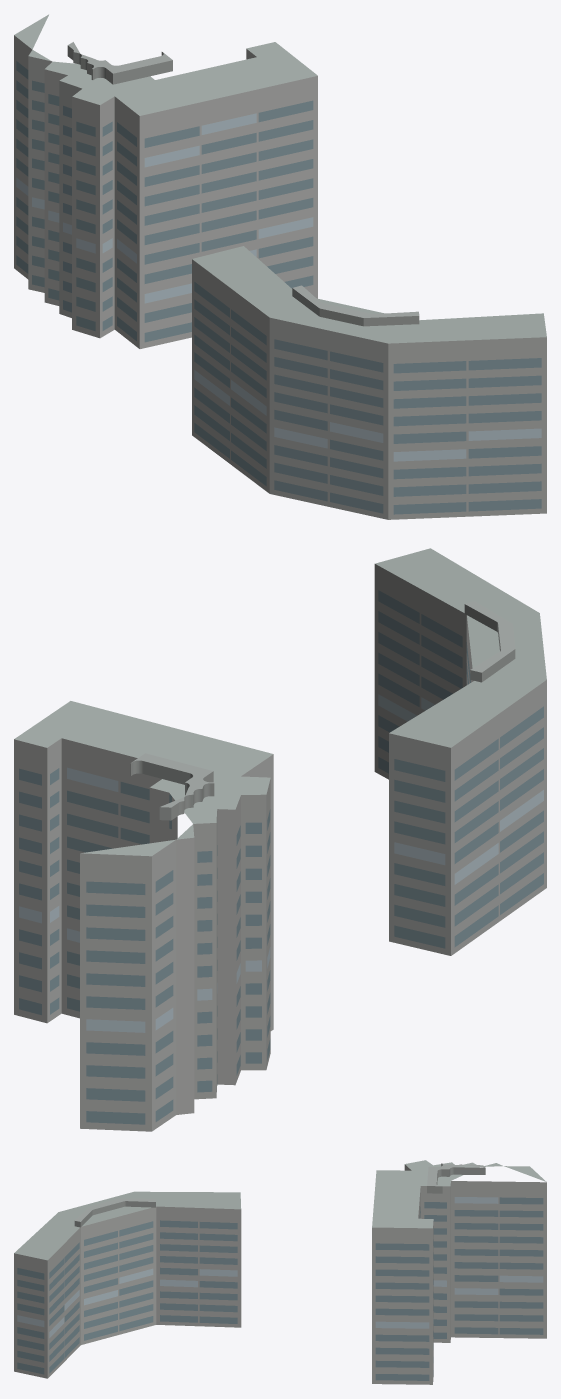
Rendered from apt-a12276901.glb.
3 renders of one model, top to bottom at view 1: azimuth 30°, elevation 25°; view 2: azimuth 150°, elevation 25°; view 3: azimuth 270°, elevation 25°, orthographic. The views are drawn at different scales.
Parts seen in each view (by area): view 1: apt-a12276901; view 2: apt-a12276901; view 3: apt-a12276901.
Part boxes in pixels (x1,y1,x2,y2): apt-a12276901: [14, 14, 546, 519]; apt-a12276901: [14, 548, 546, 1131]; apt-a12276901: [14, 1160, 546, 1384].
Bounding box in the file's own units: 40.19 × 41 × 121.
